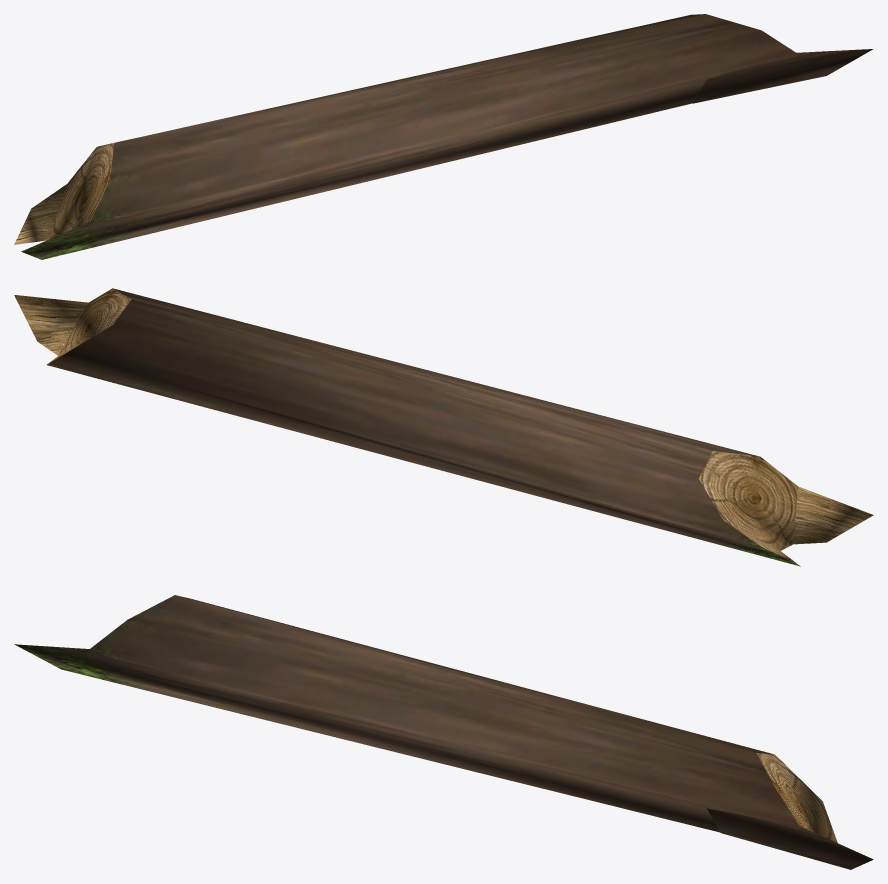
Rendered from nafltr20.dae.
The picture shows the model from 3 angles, top to bottom: view 1: azimuth 30°, elevation 25°; view 2: azimuth 150°, elevation 25°; view 3: azimuth 330°, elevation 25°; orthographic projection. The views are drawn at different scales.
Visible parts, largest first — view 1: trunk; view 2: trunk; view 3: trunk.
Part boxes in pixels (x1,y1,x2,y2): trunk: [14, 14, 873, 259]; trunk: [14, 288, 873, 566]; trunk: [14, 595, 873, 869].
Bounding box in the file's own units: 4.65 × 0.5533 × 0.4463.
Materials: 1 (1 with a texture image).
